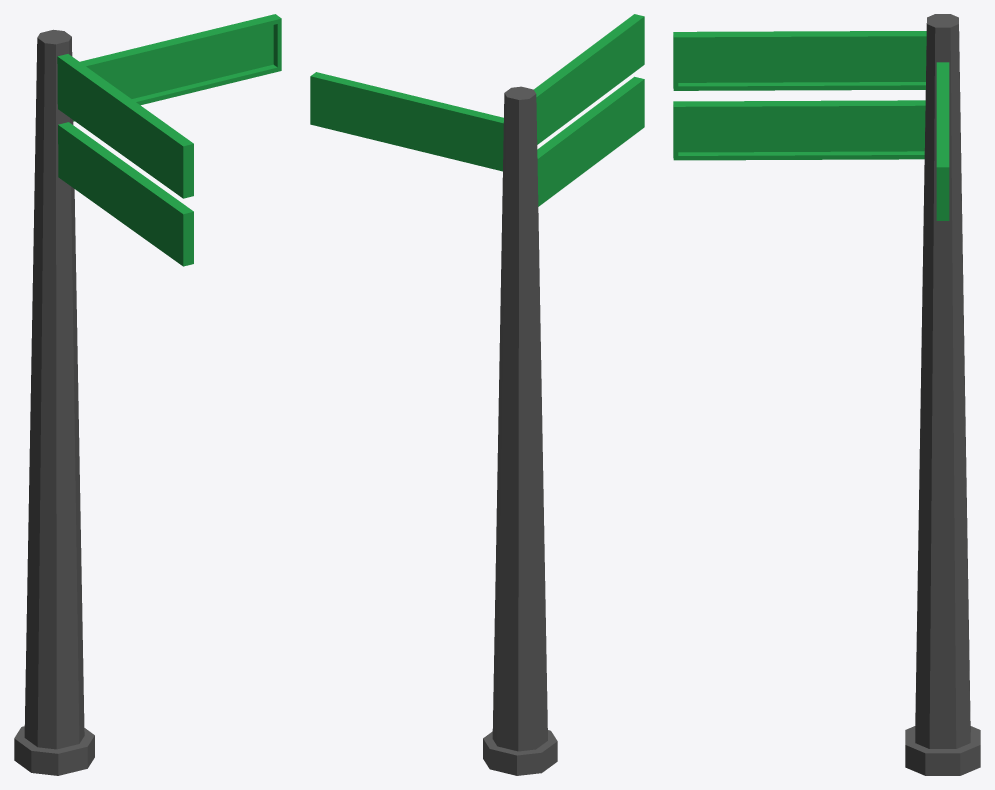
The model's file is Столб Светофор 3.fbx.
3 renders of one model, left to right at view 1: azimuth 30°, elevation 25°; view 2: azimuth 150°, elevation 25°; view 3: azimuth 270°, elevation 25°, orthographic. The views are drawn at different scales.
Visible parts, largest first — view 1: Cube.001; view 2: Cube.001; view 3: Cube.001.
Part boxes in pixels (x1,y1,x2,y2): Cube.001: (14,14,281,775); Cube.001: (310,14,644,775); Cube.001: (673,14,980,775).
Size of the model in its own units: 31.6 by 85.17 by 32.07.
